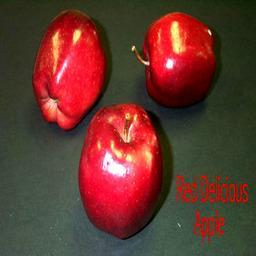apple: (77, 106, 164, 242), (30, 11, 110, 132), (139, 11, 223, 110)
